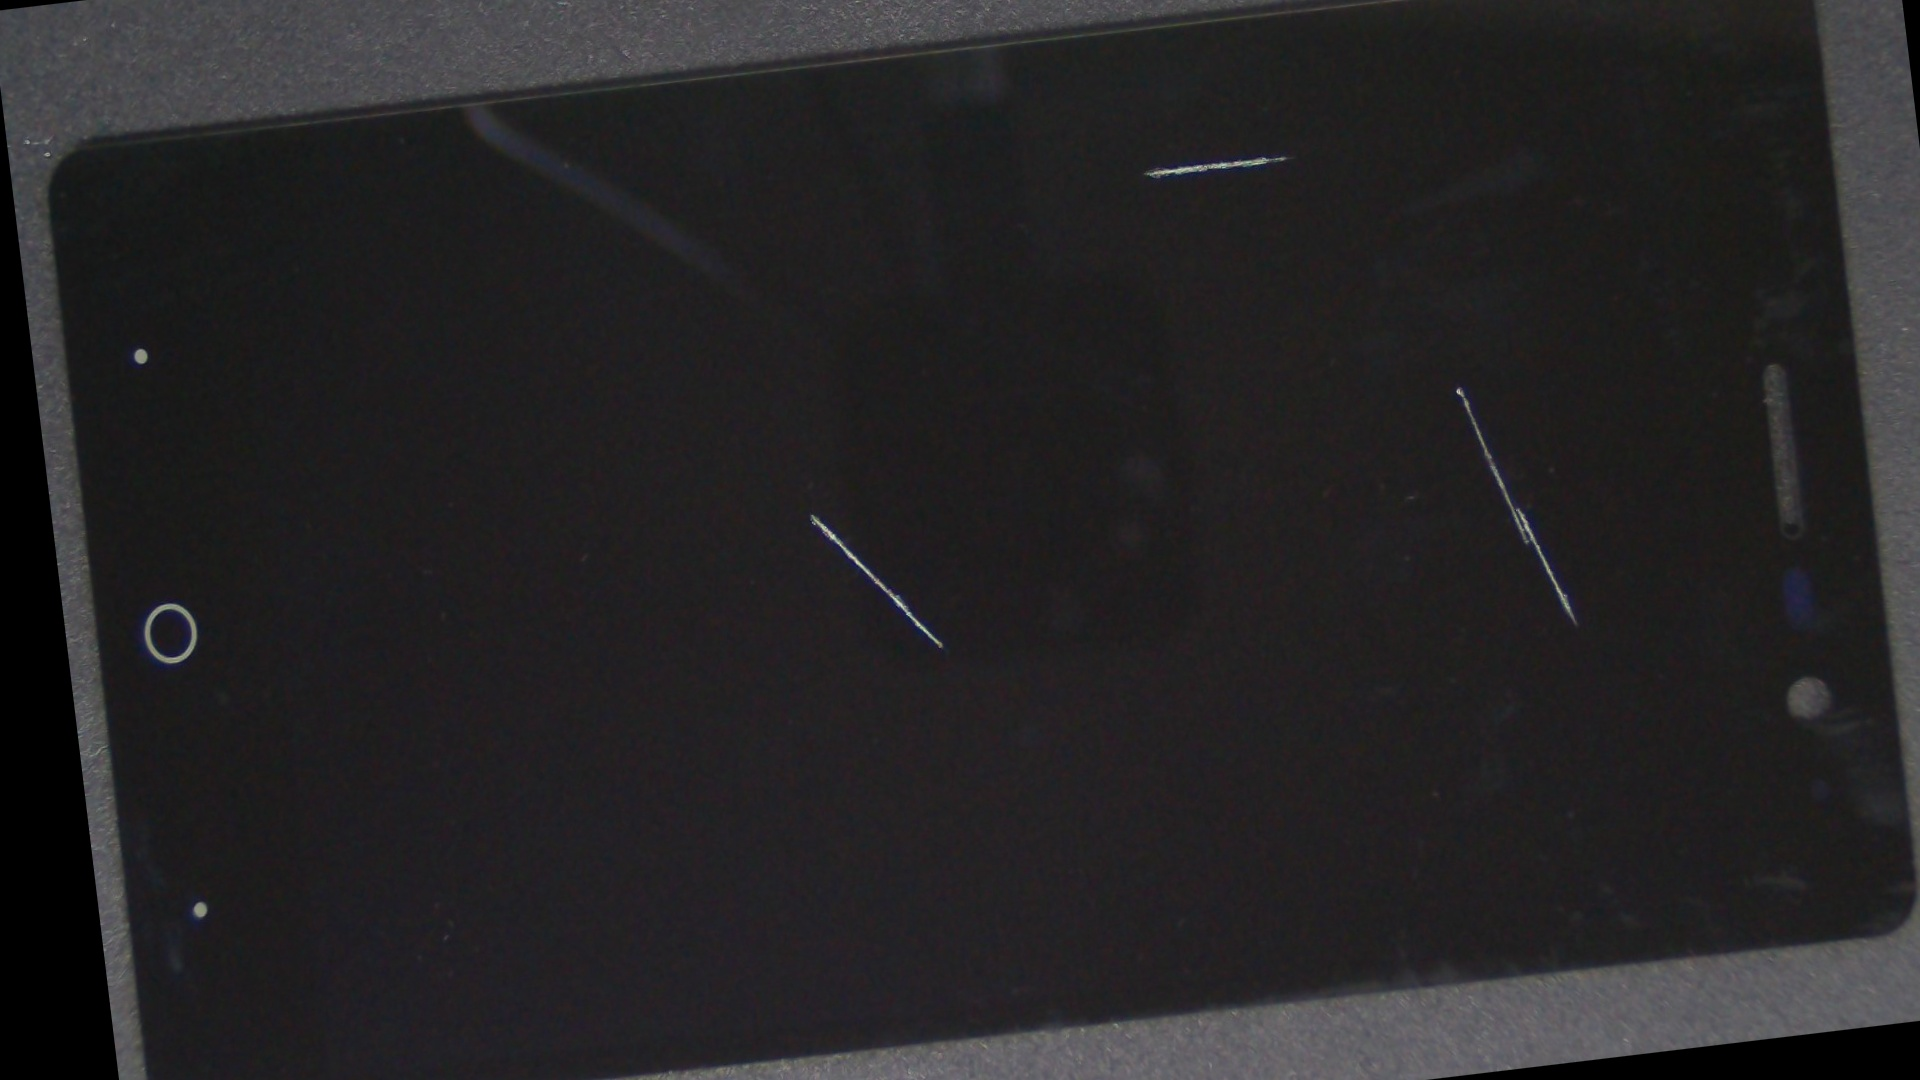oil: (724, 57, 1920, 741), (402, 171, 1221, 853), (575, 0, 1739, 381)
